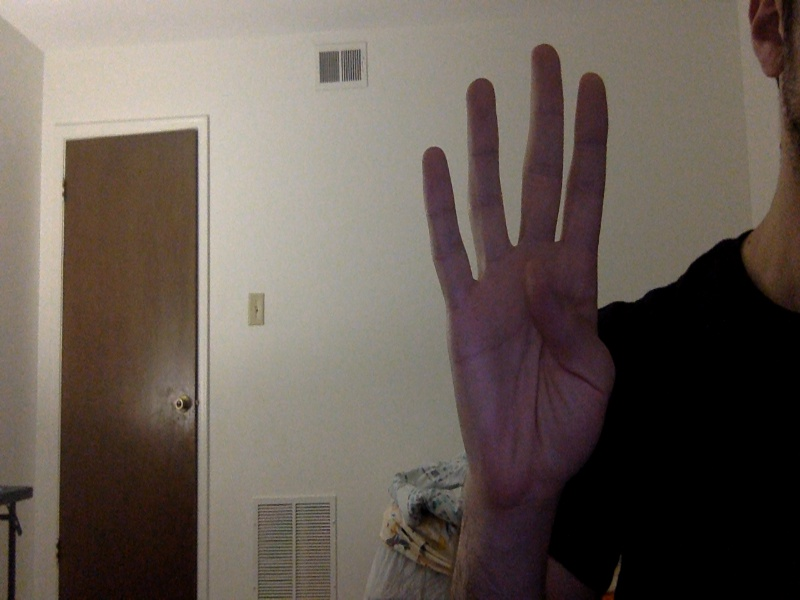4-hand: (418, 43, 615, 520)
